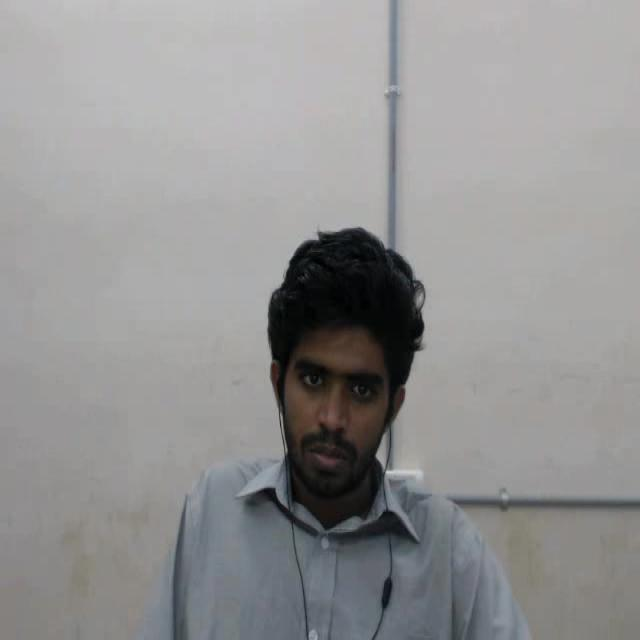Engaged: (244, 212, 438, 531)
